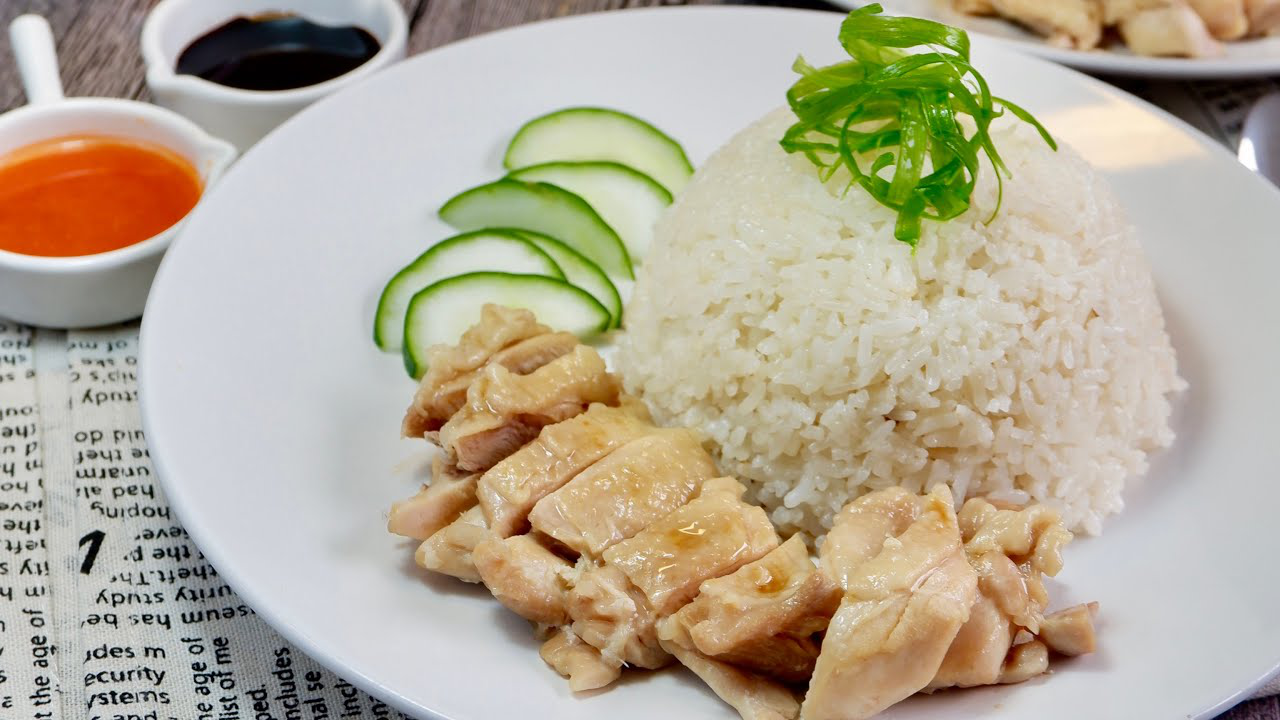Steamed Chicken Rice: (368, 64, 1191, 699)
